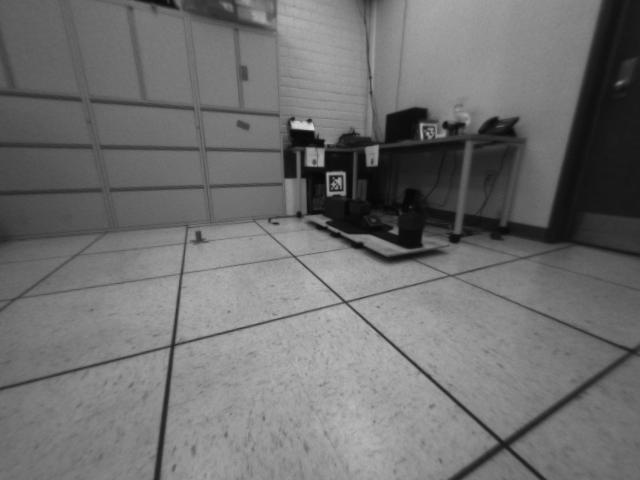X: (188, 230, 210, 246)
